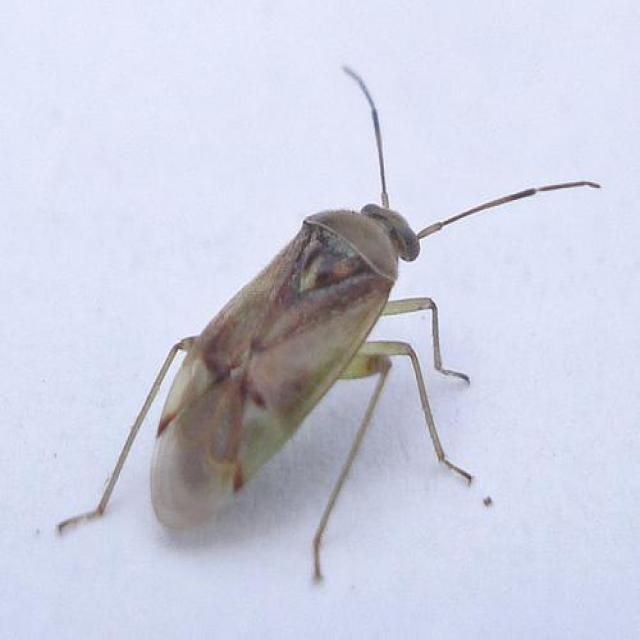Miridae-Adult-: (58, 50, 589, 544)
